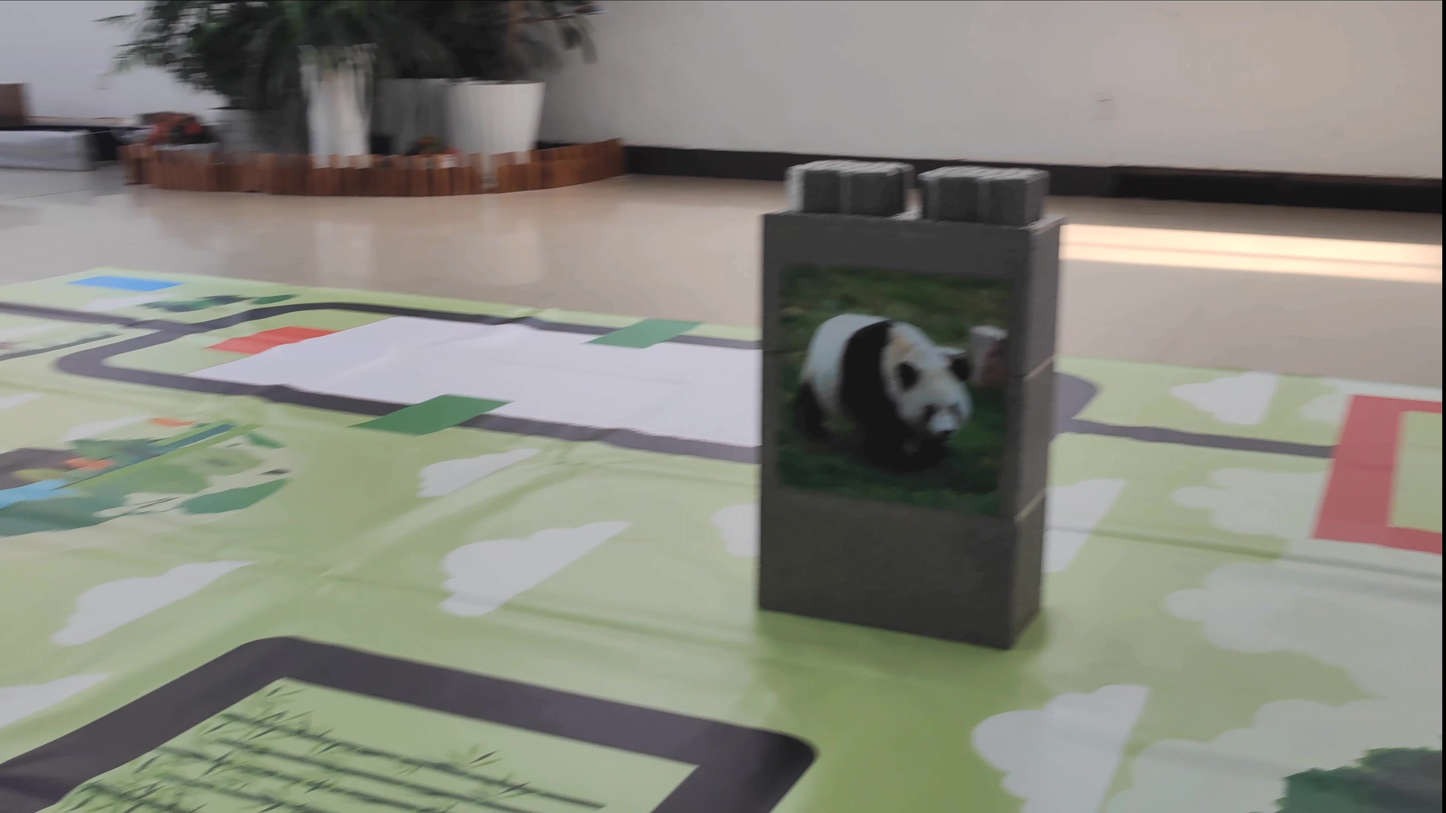panda: (789, 289, 984, 497)
